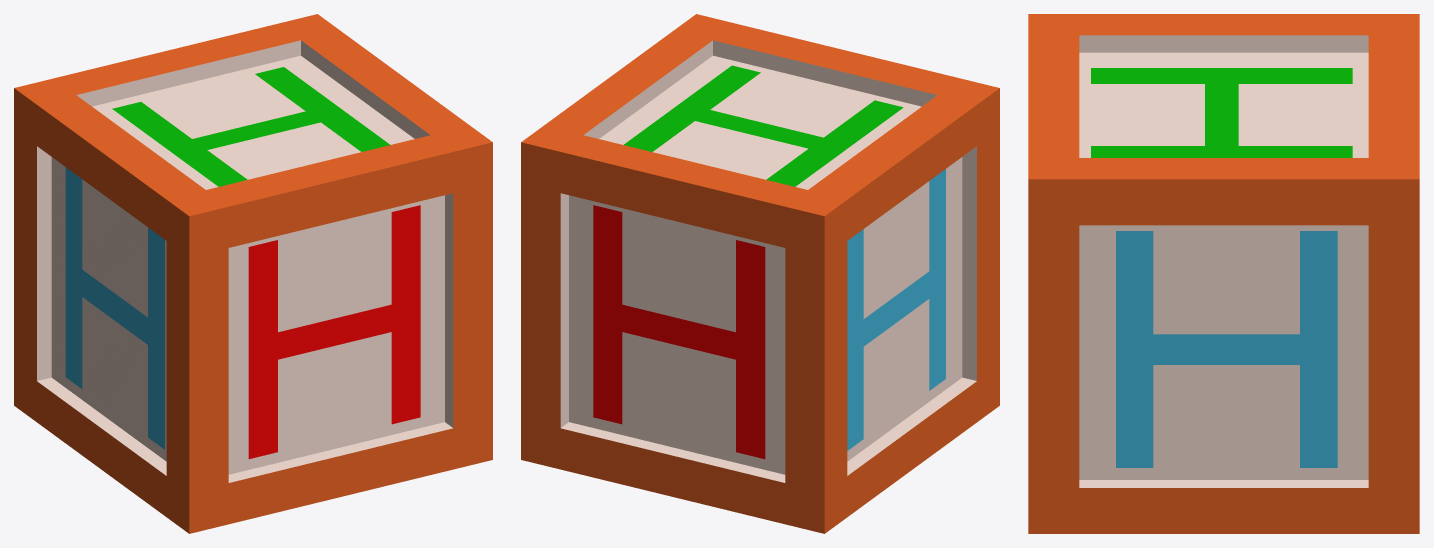
The model's file is Prop_KidsCube_H.fbx.
3 views of the same model, side by side, from view 1: azimuth 30°, elevation 25°; view 2: azimuth 150°, elevation 25°; view 3: azimuth 270°, elevation 25° (orthographic). The views are drawn at different scales.
Visible parts, largest first — view 1: Prop_KidsCube_H; view 2: Prop_KidsCube_H; view 3: Prop_KidsCube_H.
Boxes of the visible parts, box(x1,y1,x2,y2) form: Prop_KidsCube_H: box(14, 14, 492, 533); Prop_KidsCube_H: box(521, 14, 999, 533); Prop_KidsCube_H: box(1028, 14, 1419, 533).
Bounding box in the file's own units: 20.93 × 20.93 × 20.93.
1 material, 1 textured.
